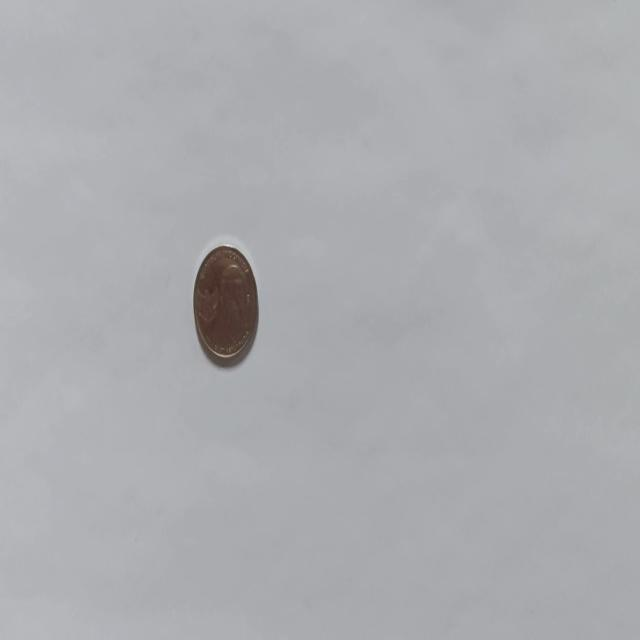seribu rupiah koin: (191, 241, 259, 365)
